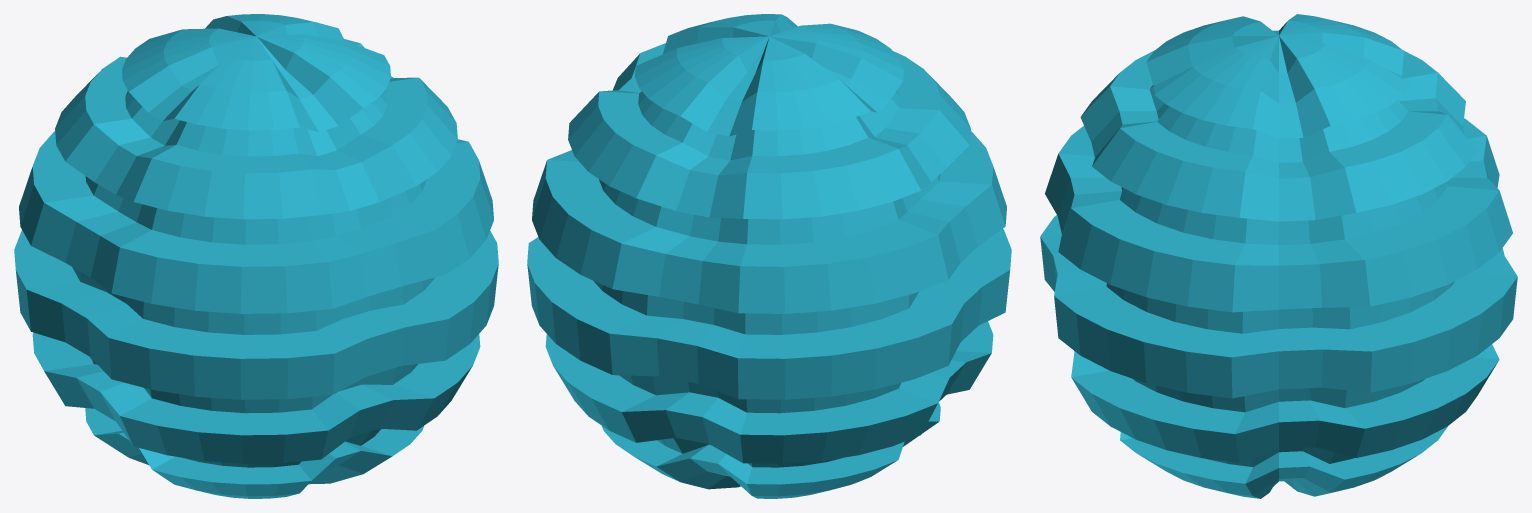
Rendered from ball01.fbx.
The picture shows the model from 3 angles, left to right: view 1: azimuth 30°, elevation 25°; view 2: azimuth 150°, elevation 25°; view 3: azimuth 270°, elevation 25°; orthographic projection.
Visible parts, largest first — view 1: ball; view 2: ball; view 3: ball.
Part boxes in pixels (x1,y1,x2,y2): ball: (14,14,498,498); ball: (527,14,1011,498); ball: (1040,14,1517,498).
Size of the model in its own units: 47.43 by 48.36 by 47.43.
